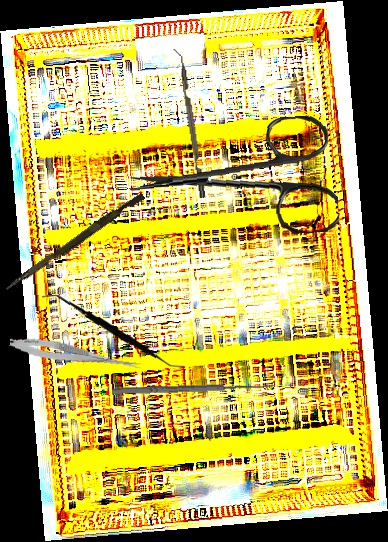Chopper: (171, 47, 206, 200)
Hook Surgical: (111, 375, 274, 397)
Iris Scissors: (126, 113, 340, 246)
Micro Scissor: (8, 333, 143, 374)
Pusher: (4, 189, 146, 296)
Spatula Surgical: (41, 290, 185, 373)
